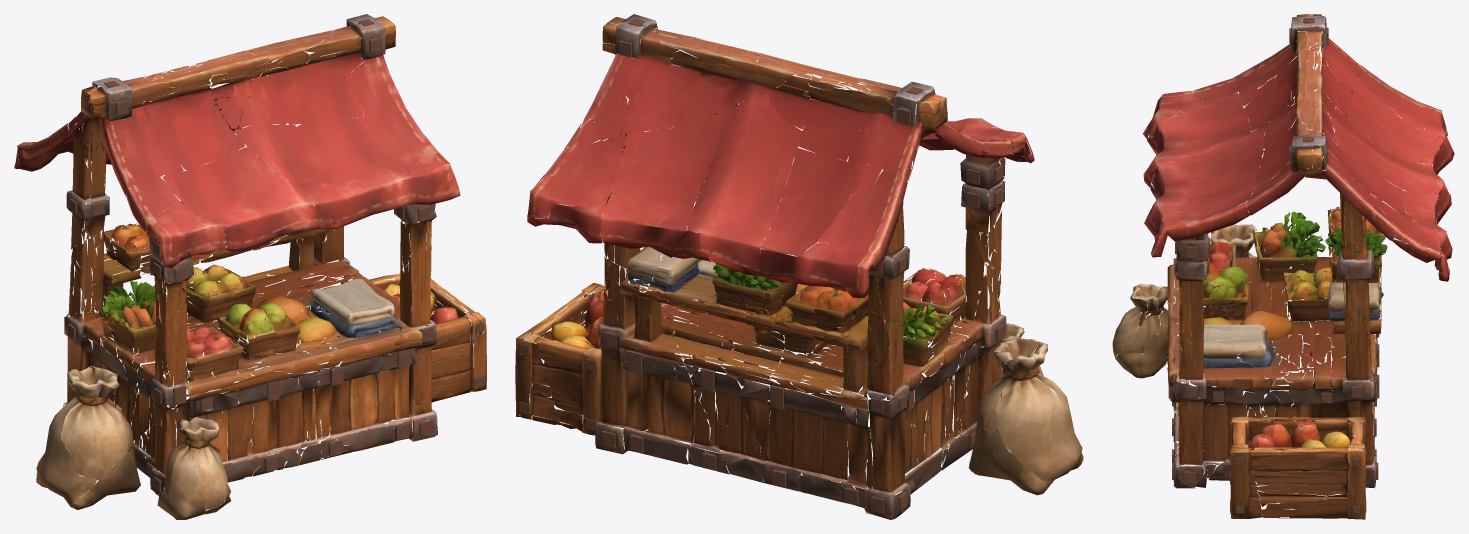
The model's file is stall.glb.
3 views of the same model, side by side, from view 1: azimuth 30°, elevation 25°; view 2: azimuth 150°, elevation 25°; view 3: azimuth 270°, elevation 25° (orthographic). The views are drawn at different scales.
Parts seen in each view (by area): view 1: tripo_node_99705ef5-c4a4-4b26-906d-f546eecdf73b; view 2: tripo_node_99705ef5-c4a4-4b26-906d-f546eecdf73b; view 3: tripo_node_99705ef5-c4a4-4b26-906d-f546eecdf73b.
Part boxes in pixels (x1,y1,x2,y2): tripo_node_99705ef5-c4a4-4b26-906d-f546eecdf73b: (14,14,486,519); tripo_node_99705ef5-c4a4-4b26-906d-f546eecdf73b: (515,14,1083,519); tripo_node_99705ef5-c4a4-4b26-906d-f546eecdf73b: (1112,14,1454,519).
Bounding box in the file's own units: 0.9779 × 0.769 × 0.6834.
1 material, 1 textured.
